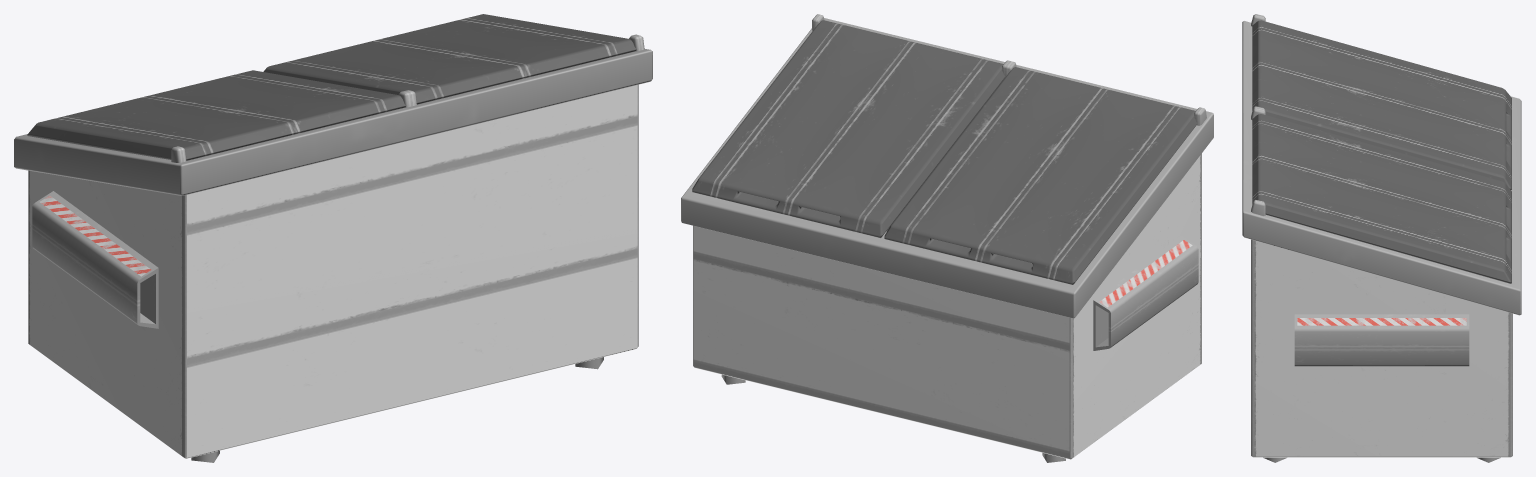
File: Dumpster.fbx
3 views of the same model, side by side, from view 1: azimuth 30°, elevation 25°; view 2: azimuth 150°, elevation 25°; view 3: azimuth 270°, elevation 25° (orthographic). The views are drawn at different scales.
Parts seen in each view (by area): view 1: Dumpster, Cube.002, Cube.001, Cube.003; view 2: Cube.002, Dumpster, Cube.001, Cube.003; view 3: Cube.002, Dumpster, Cube.001, Cube.003.
Boxes of the visible parts, <box> form: Dumpster: <box>28,84,638,458</box>; Cube.002: <box>27,14,636,160</box>; Cube.001: <box>14,34,652,195</box>; Cube.003: <box>32,191,158,328</box>; Cube.002: <box>692,20,1196,284</box>; Dumpster: <box>693,153,1201,459</box>; Cube.001: <box>681,14,1213,318</box>; Cube.003: <box>1093,236,1198,350</box>; Cube.002: <box>1252,20,1511,283</box>; Dumpster: <box>1251,239,1512,457</box>; Cube.001: <box>1242,14,1521,315</box>; Cube.003: <box>1294,314,1469,366</box>.
Size of what is drawn, in the model's own units: 246 by 154 by 144.
